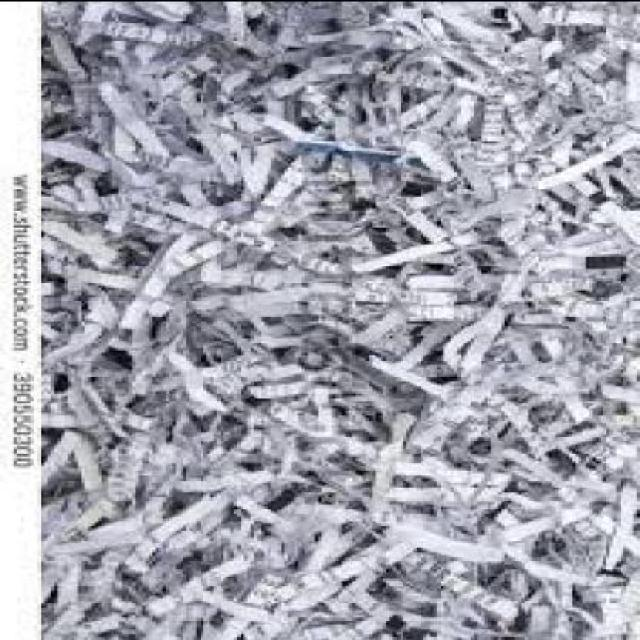PAPER: (43, 1, 639, 638)
